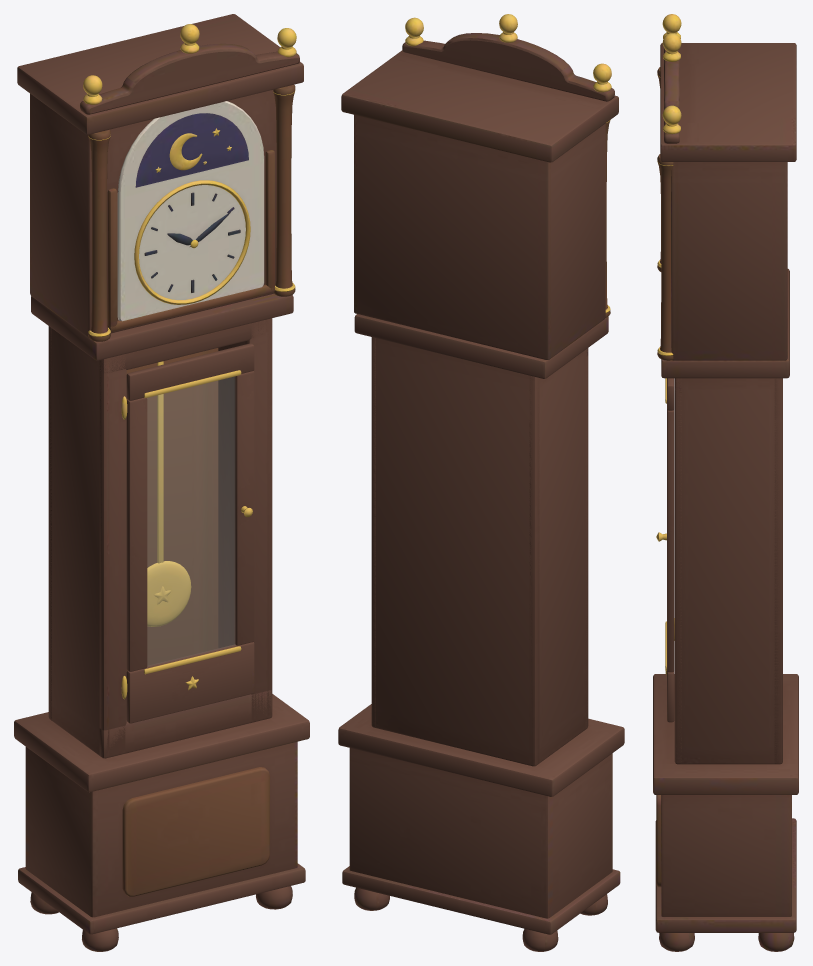
File: reloj_pendulo.glb
3 views of the same model, side by side, from view 1: azimuth 30°, elevation 25°; view 2: azimuth 150°, elevation 25°; view 3: azimuth 270°, elevation 25° (orthographic). The views are drawn at different scales.
Parts seen in each view (by area): view 1: grandfather-clock_body; view 2: grandfather-clock_body; view 3: grandfather-clock_body.
Boxes of the visible parts, <box> form: grandfather-clock_body: <box>14,14,309,951</box>; grandfather-clock_body: <box>338,14,624,951</box>; grandfather-clock_body: <box>653,14,798,951</box>.
Size of the model in its own units: 0.55 by 2.13 by 0.323.
4 materials, 3 textured.
